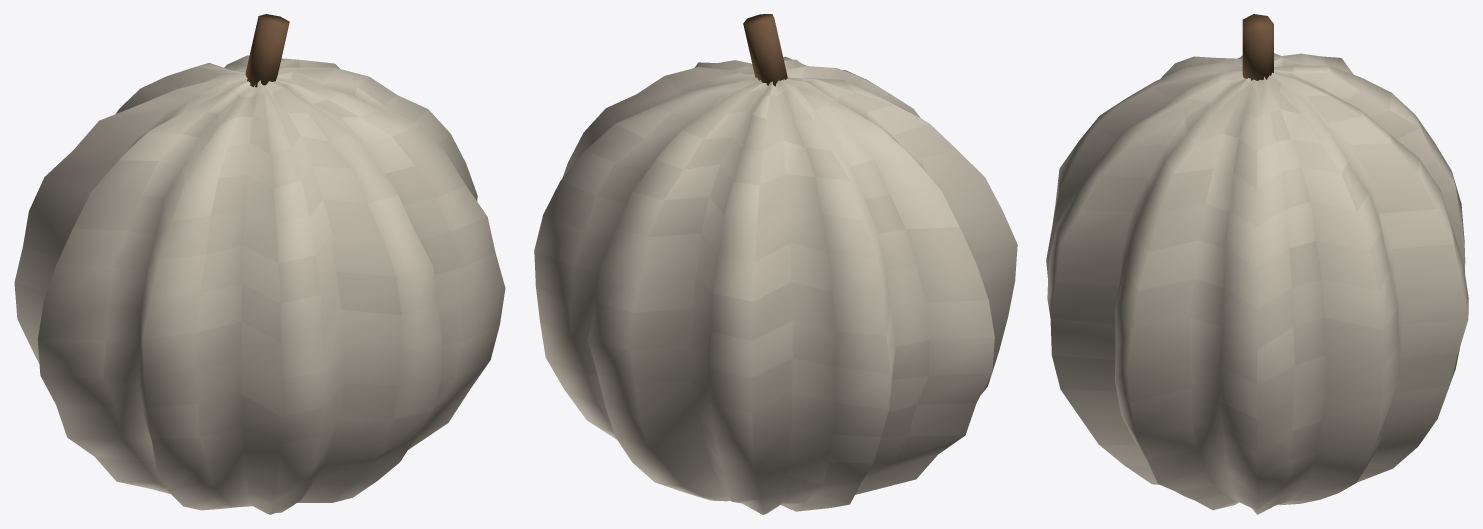
File: Garlic.glb
3 views of the same model, side by side, from view 1: azimuth 30°, elevation 25°; view 2: azimuth 150°, elevation 25°; view 3: azimuth 270°, elevation 25° (orthographic).
Parts seen in each view (by area): view 1: Garlic; view 2: Garlic; view 3: Garlic.
Part boxes in pixels (left/top/right/bottom): Garlic: left=14, top=14, right=505, bottom=514; Garlic: left=534, top=14, right=1017, bottom=514; Garlic: left=1046, top=14, right=1468, bottom=514.
Size of what is drawn, in the model's own units: 0.0863 by 0.0896 by 0.0715.
